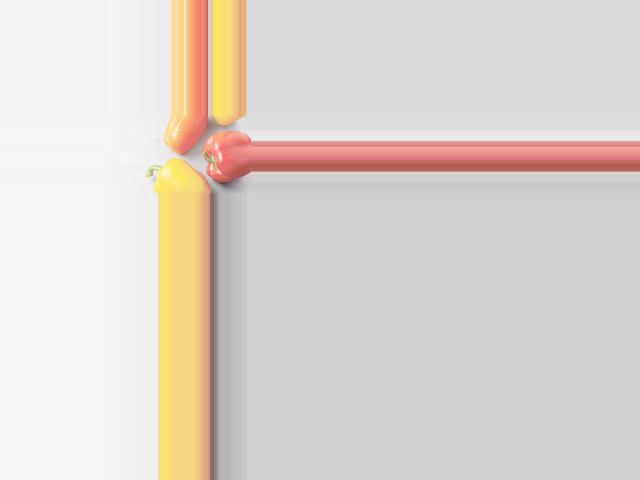bell_pepper: (203, 131, 250, 186)
